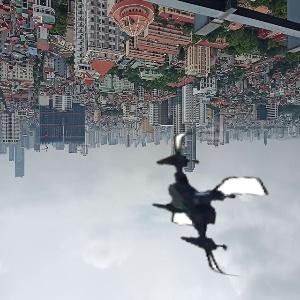drone: (135, 132, 277, 274)
